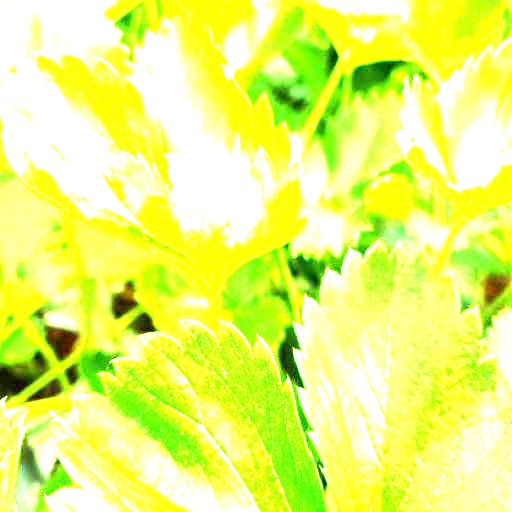Powdery Mildew Leaf: (100, 132, 310, 295)
